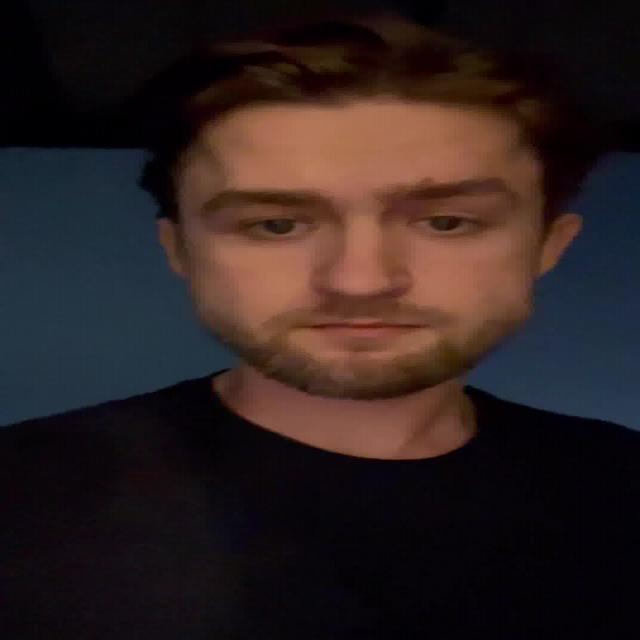earlobe: (165, 252, 191, 278), (537, 253, 559, 280)
eye: (412, 213, 479, 235), (245, 217, 318, 237)
nose: (316, 287, 405, 320)
wholeear: (537, 213, 582, 280), (153, 216, 191, 279)
